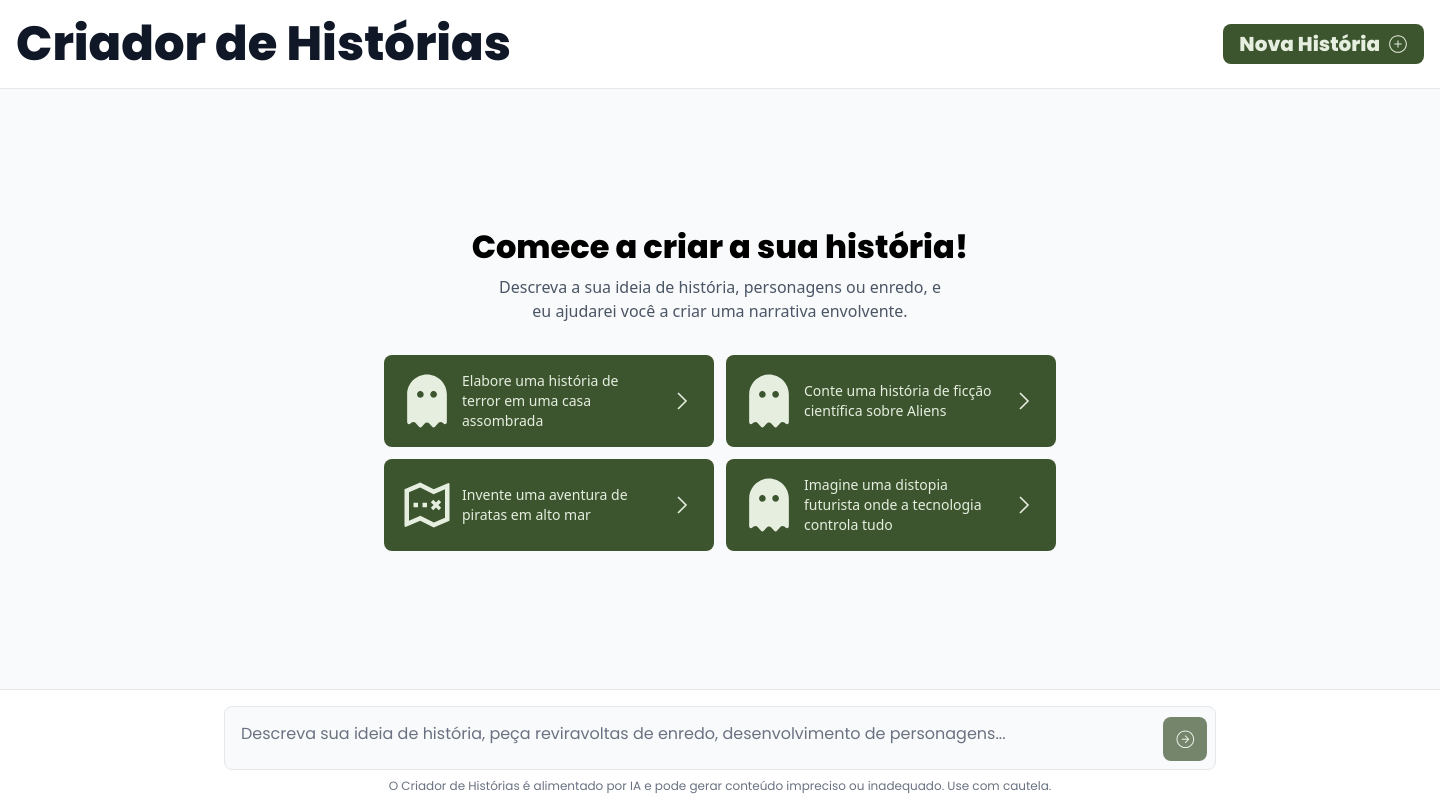
Test case: CreateStory › deve enviar mensagem ao clicar no botão de enviar
In the text box with placeholder "Descreva sua ideia de história": (694, 735) [233,715,1155,755], type "Minha história"
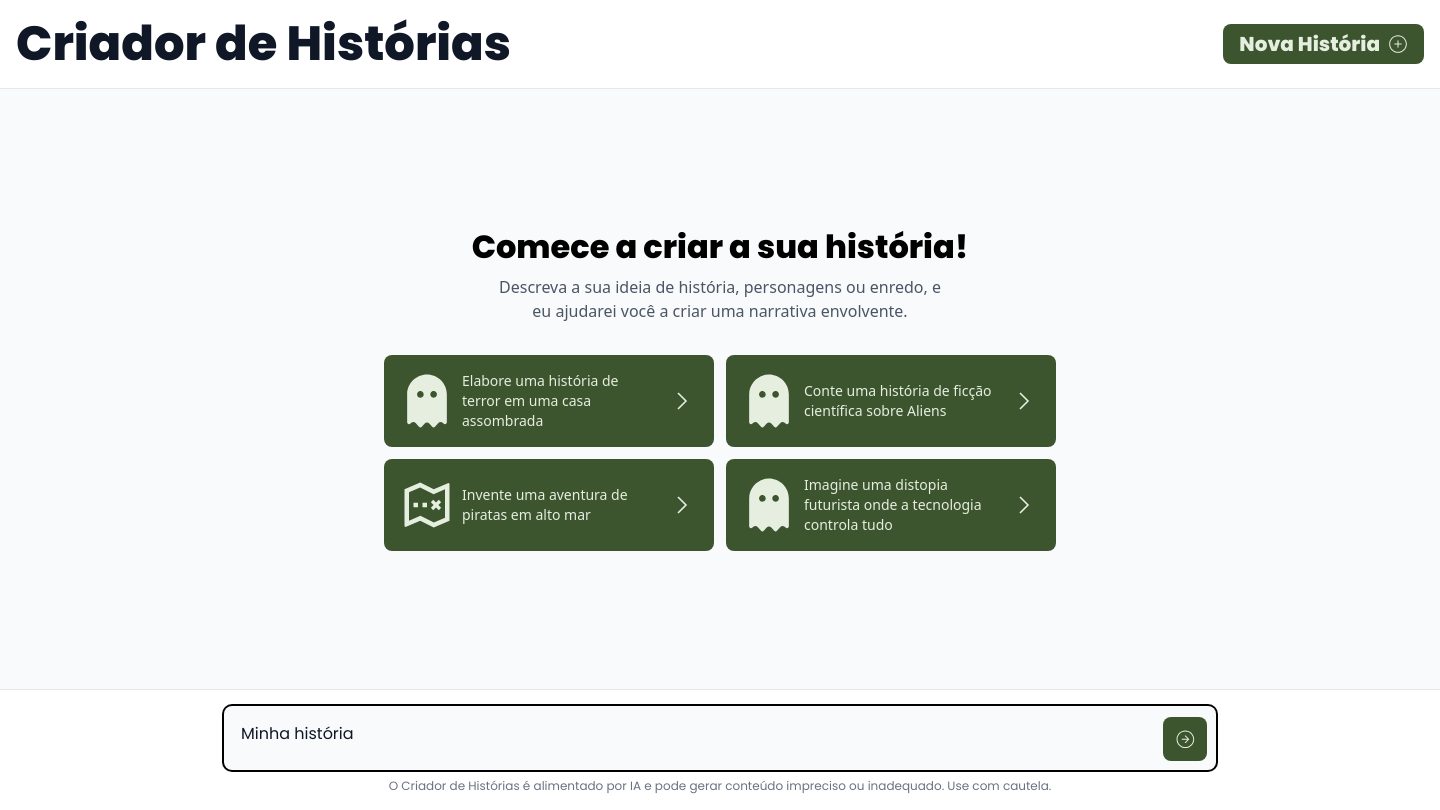
Click the button named "enviar mensagem": (1185, 739) [1163,717,1207,761]
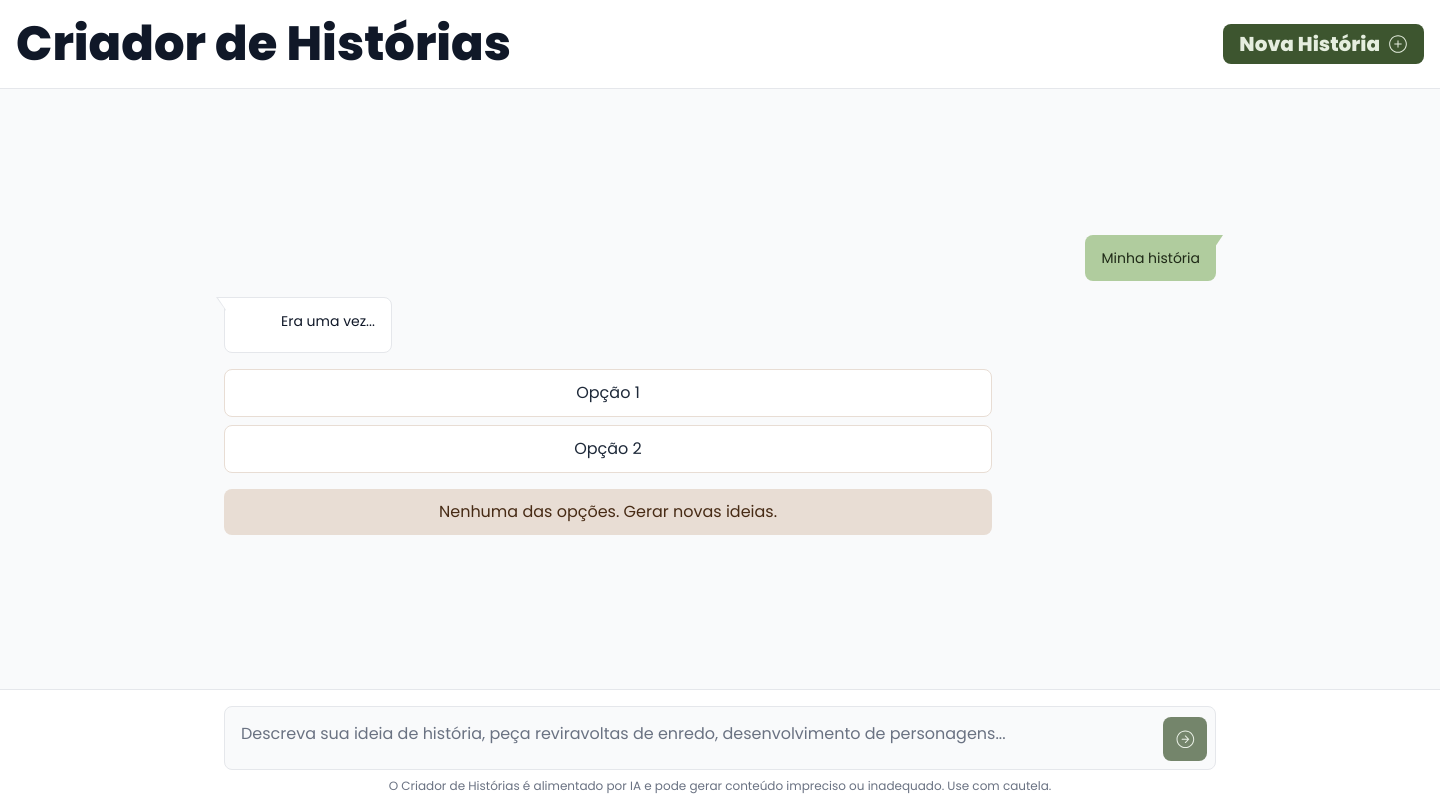
Check: the text "Era uma vez..." is shown, box [281,310,375,333]
